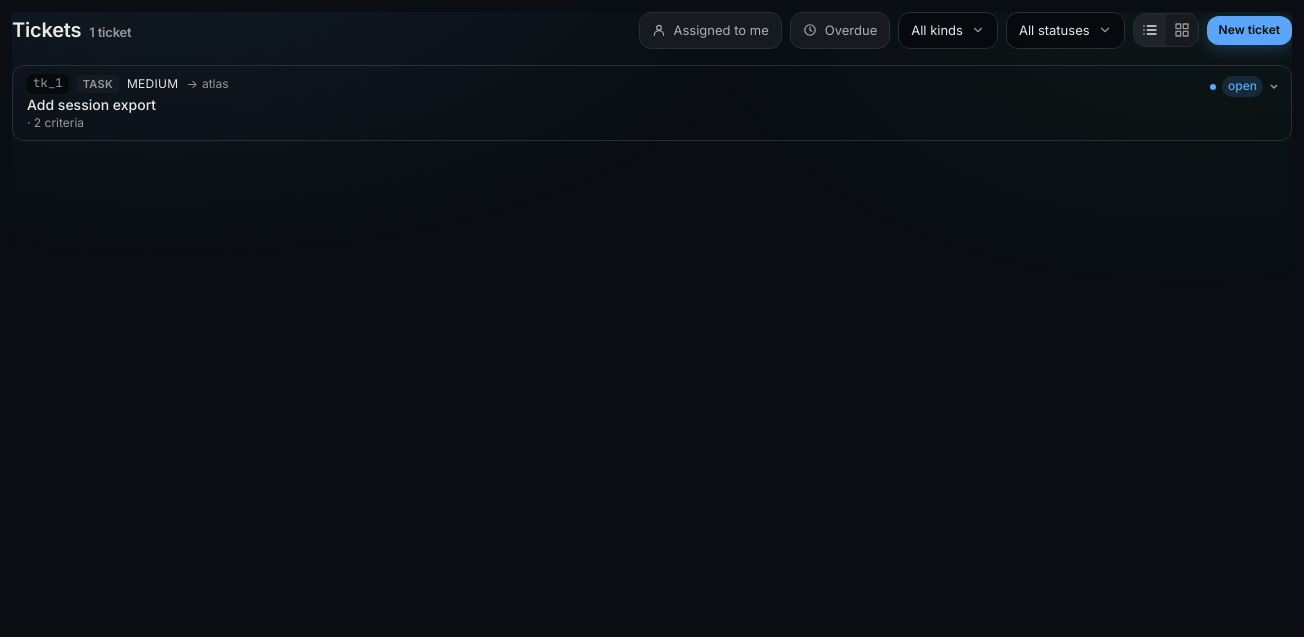
Test: TicketsTab › hides approve once the ticket is open
Click the text "Add session export" at {"x": 92, "y": 105}, box [27, 96, 156, 113]
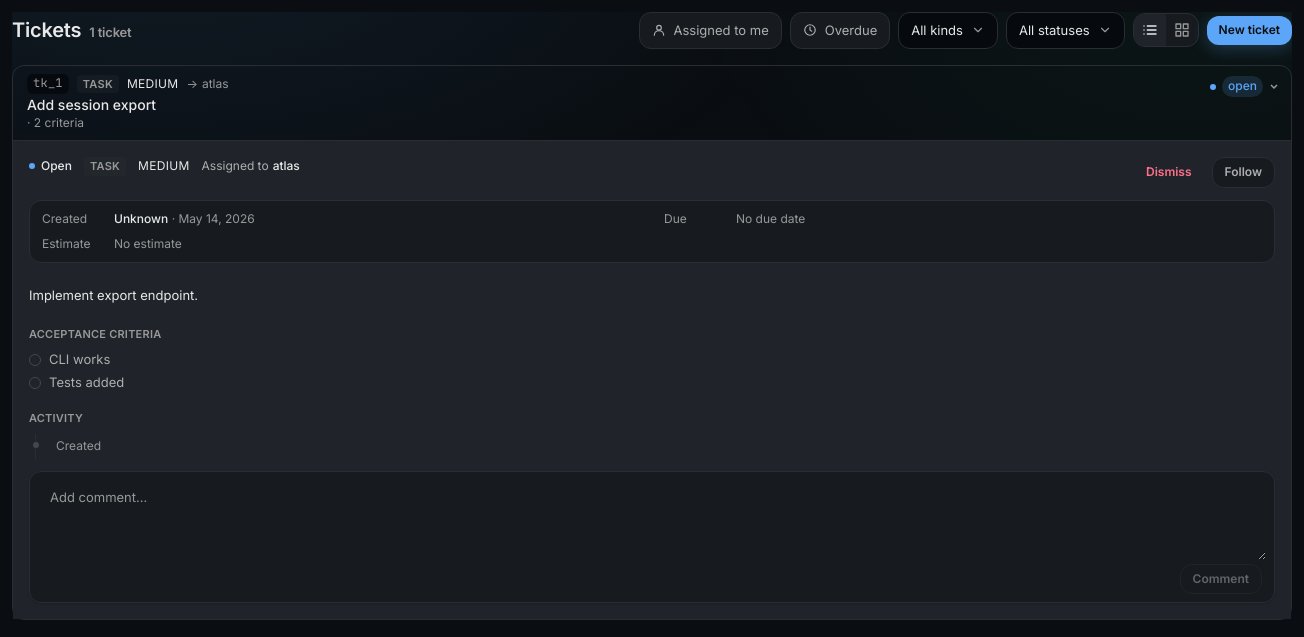
Expected: the button "Dismiss" is shown, [1134, 158, 1204, 187]
